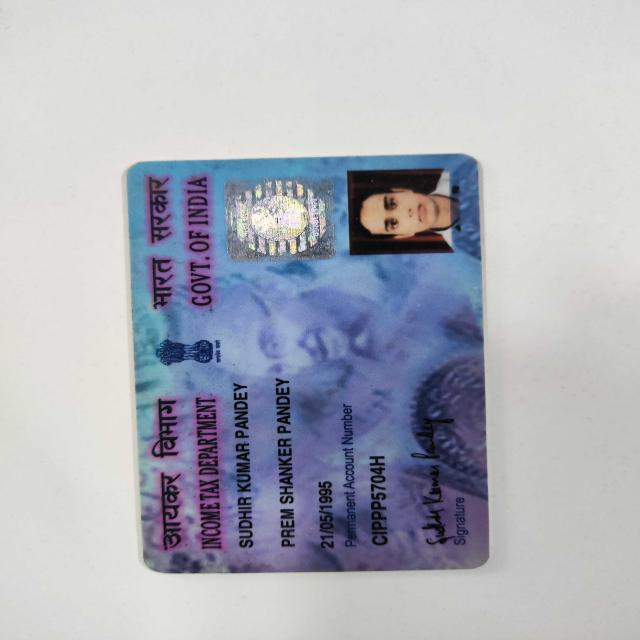pan_card: (130, 156, 486, 572)
